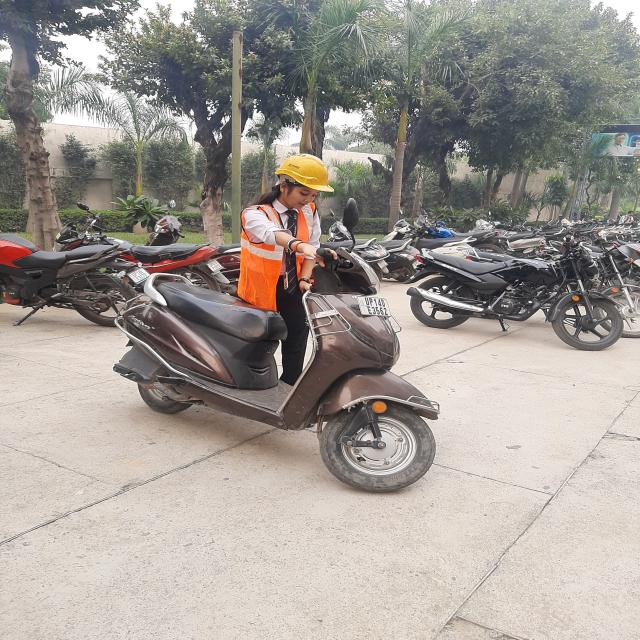safe: (237, 152, 333, 390)
